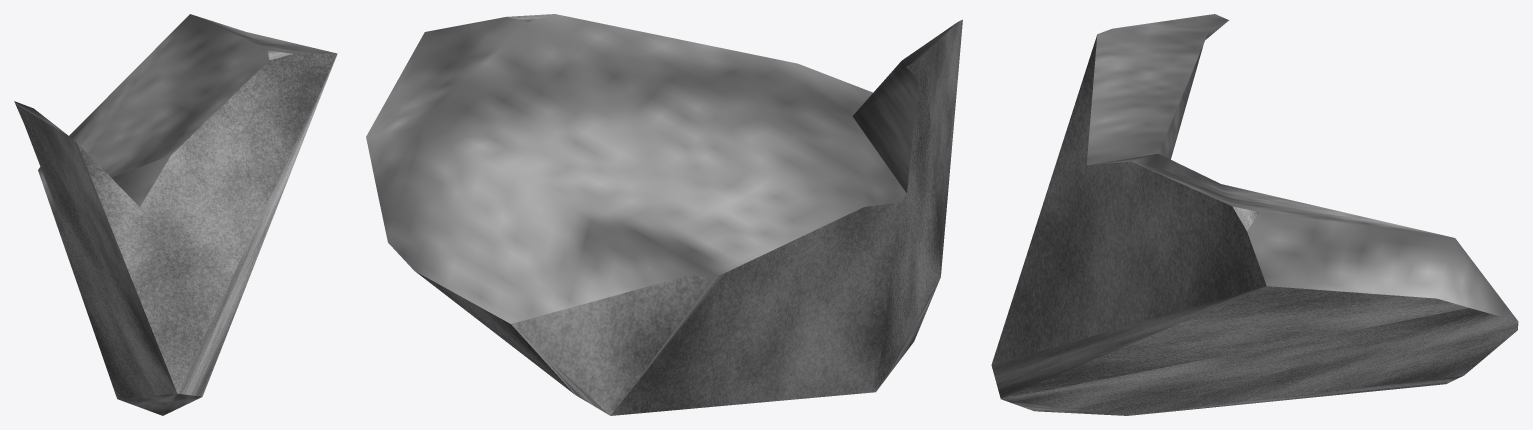
The model's file is body_cell_033.fbx.
3 renders of one model, left to right at view 1: azimuth 30°, elevation 25°; view 2: azimuth 150°, elevation 25°; view 3: azimuth 270°, elevation 25°, orthographic. The views are drawn at different scales.
Visible parts, largest first — view 1: body_cell.033; view 2: body_cell.033; view 3: body_cell.033.
Boxes of the visible parts, x1,y1,x2,y2 form: body_cell.033: (14,14,337,415); body_cell.033: (366,14,962,415); body_cell.033: (991,14,1518,415).
Size of the model in its own units: 34.8 by 27.76 by 36.76.
